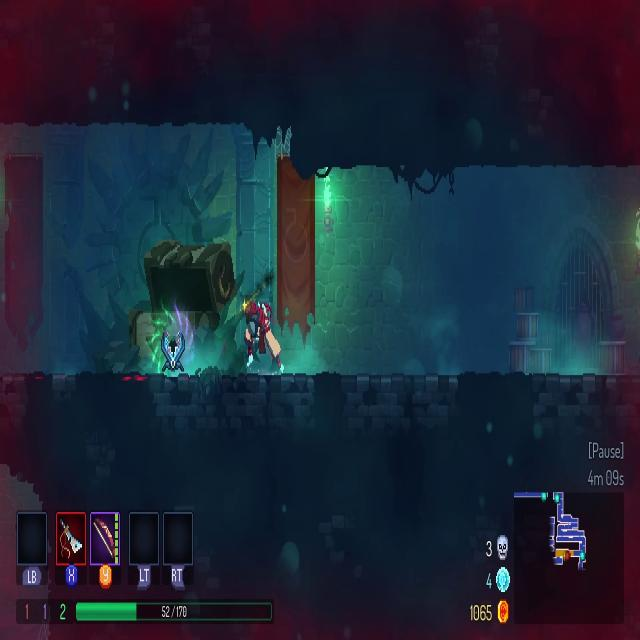agents: (240, 286, 287, 378)
